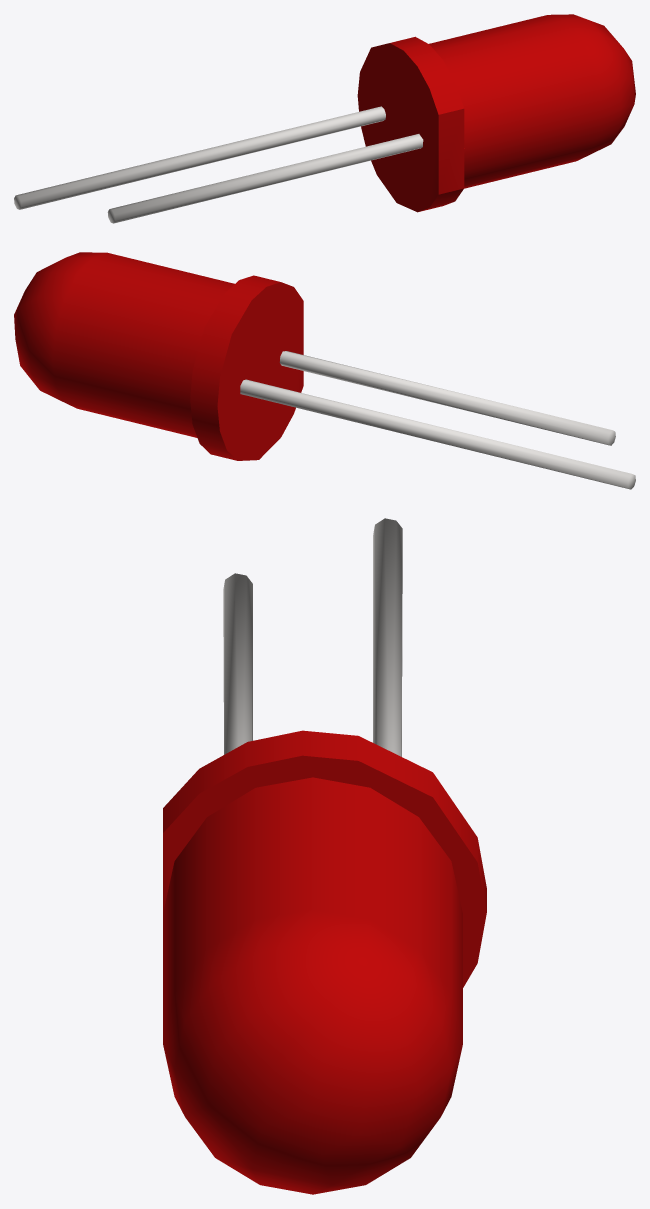
Rendered from LED.fbx.
3 views of the same model, one above another, from view 1: azimuth 30°, elevation 25°; view 2: azimuth 150°, elevation 25°; view 3: azimuth 270°, elevation 25° (orthographic). The views are drawn at different scales.
Visible parts, largest first — view 1: LED_body, Anode+, Cathode-; view 2: LED_body, Anode+, Cathode-; view 3: LED_body, Anode+, Cathode-.
Part boxes in pixels (x1,y1,x2,y2): LED_body: (357, 14, 635, 212); Anode+: (14, 106, 385, 209); Cathode-: (107, 134, 423, 223); LED_body: (14, 252, 303, 460); Anode+: (240, 379, 635, 489); Cathode-: (279, 351, 615, 445); LED_body: (163, 730, 486, 1194); Anode+: (373, 518, 402, 756); Cathode-: (223, 573, 252, 754).
Bounding box in the file's own units: 227 × 58 × 54.
